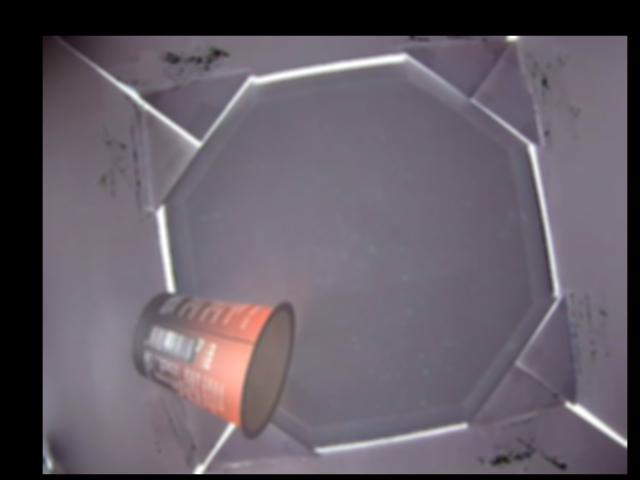Cup: (128, 289, 293, 440)
